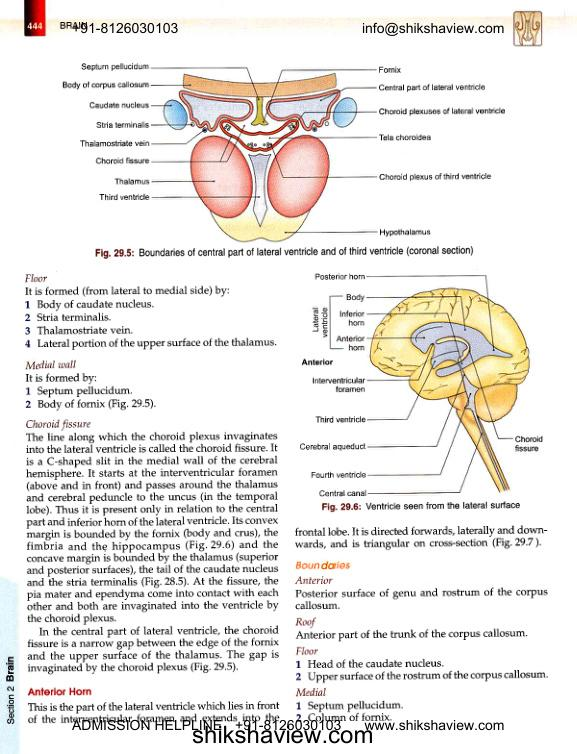caption: (94, 246, 474, 260), (321, 501, 522, 513)
header: (59, 21, 88, 30)
image: (54, 47, 514, 245), (292, 266, 551, 500)
list: (24, 299, 278, 351), (295, 658, 550, 684), (24, 385, 158, 412), (295, 700, 405, 722)
sub-section-heading: (25, 418, 92, 432), (26, 687, 92, 697), (294, 560, 351, 571), (24, 359, 78, 370), (294, 575, 334, 586), (295, 686, 327, 698), (23, 272, 48, 284), (295, 645, 320, 657), (295, 616, 318, 629)
text: (25, 432, 280, 675), (293, 525, 548, 551), (294, 586, 550, 610), (27, 701, 282, 723), (294, 627, 528, 643), (24, 285, 231, 298), (24, 372, 98, 384)
